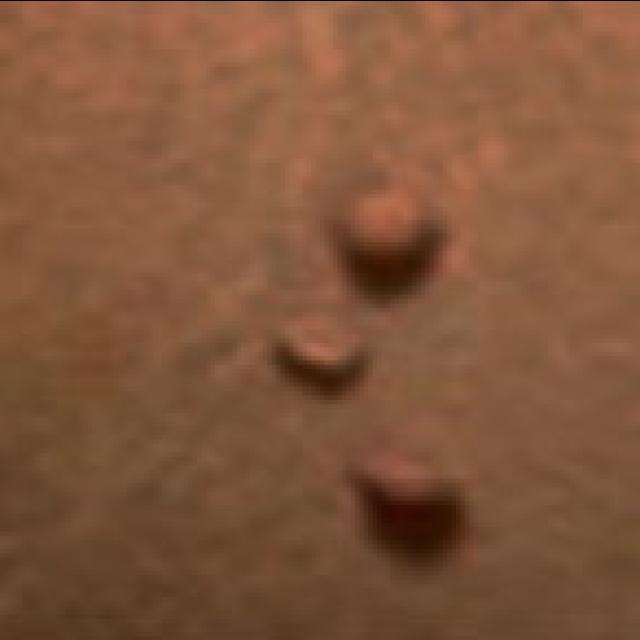wart: (350, 434, 464, 544), (334, 184, 438, 285), (272, 324, 360, 390)
